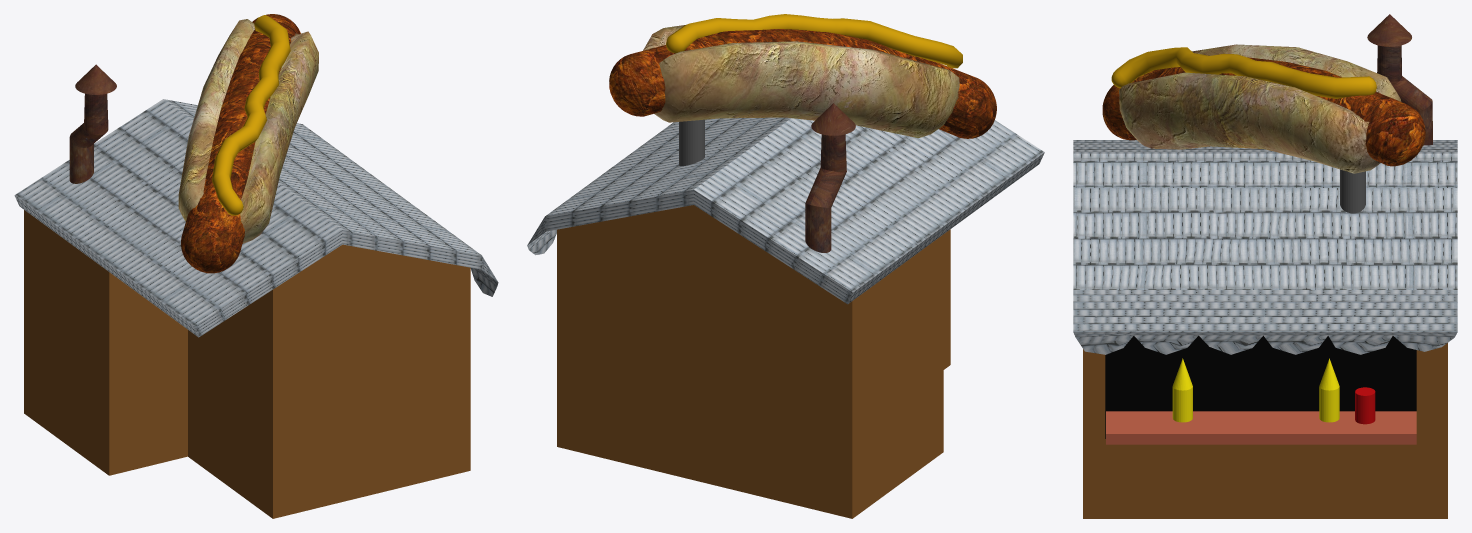
The model's file is hotdogstand.obj.
3 renders of one model, left to right at view 1: azimuth 30°, elevation 25°; view 2: azimuth 150°, elevation 25°; view 3: azimuth 270°, elevation 25°, orthographic. The views are drawn at different scales.
Visible parts, largest first — view 1: Walls_Cube.001, Roof_Cube.002, Bun_Sphere.003, Sausage_Sphere, MustardOnHotdog_Sphere.004, Chimney_Cylinder; view 2: Walls_Cube.001, Roof_Cube.002, Bun_Sphere.003, Sausage_Sphere, MustardOnHotdog_Sphere.004, Chimney_Cylinder, HotdogPole_Cylinder.005; view 3: Roof_Cube.002, Walls_Cube.001, Bun_Sphere.003, Counter_Cube.003, Sausage_Sphere, MustardOnHotdog_Sphere.004, Chimney_Cylinder, Mustard1_Cylinder.003, Mustard2_Cylinder.004, HotdogPole_Cylinder.005, Ketchup_Cylinder.001.
Boxes of the visible parts, left/top/right/bottom form: Walls_Cube.001: left=24, top=210, right=470, bottom=518; Roof_Cube.002: left=14, top=99, right=498, bottom=337; Bun_Sphere.003: left=178, top=19, right=318, bottom=243; Sausage_Sphere: left=181, top=14, right=300, bottom=273; MustardOnHotdog_Sphere.004: left=212, top=15, right=290, bottom=215; Chimney_Cylinder: left=69, top=64, right=116, bottom=183; Walls_Cube.001: left=557, top=205, right=950, bottom=518; Roof_Cube.002: left=527, top=117, right=1044, bottom=304; Bun_Sphere.003: left=643, top=25, right=959, bottom=138; Sausage_Sphere: left=609, top=29, right=996, bottom=138; MustardOnHotdog_Sphere.004: left=666, top=14, right=962, bottom=68; Chimney_Cylinder: left=805, top=103, right=855, bottom=252; HotdogPole_Cylinder.005: left=679, top=119, right=704, bottom=166; Roof_Cube.002: left=1073, top=140, right=1457, bottom=354; Walls_Cube.001: left=1083, top=335, right=1447, bottom=518; Bun_Sphere.003: left=1119, top=44, right=1401, bottom=173; Counter_Cube.003: left=1106, top=411, right=1416, bottom=444; Sausage_Sphere: left=1102, top=57, right=1425, bottom=166; MustardOnHotdog_Sphere.004: left=1111, top=47, right=1376, bottom=98; Chimney_Cylinder: left=1367, top=14, right=1432, bottom=145; Mustard1_Cylinder.003: left=1172, top=358, right=1192, bottom=422; Mustard2_Cylinder.004: left=1319, top=358, right=1339, bottom=422; HotdogPole_Cylinder.005: left=1340, top=169, right=1365, bottom=213; Ketchup_Cylinder.001: left=1355, top=387, right=1375, bottom=424.
Bounding box in the file's own units: 3.93 × 4.63 × 4.
